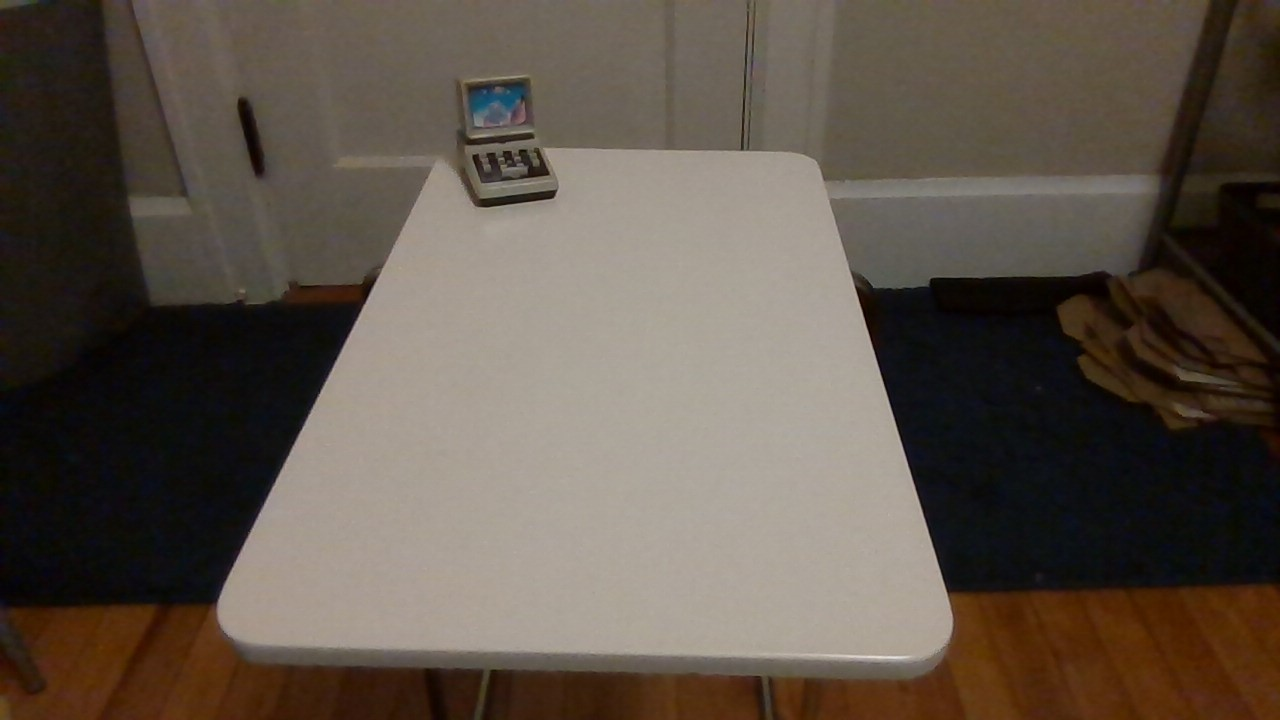Toy: (439, 66, 574, 217)
